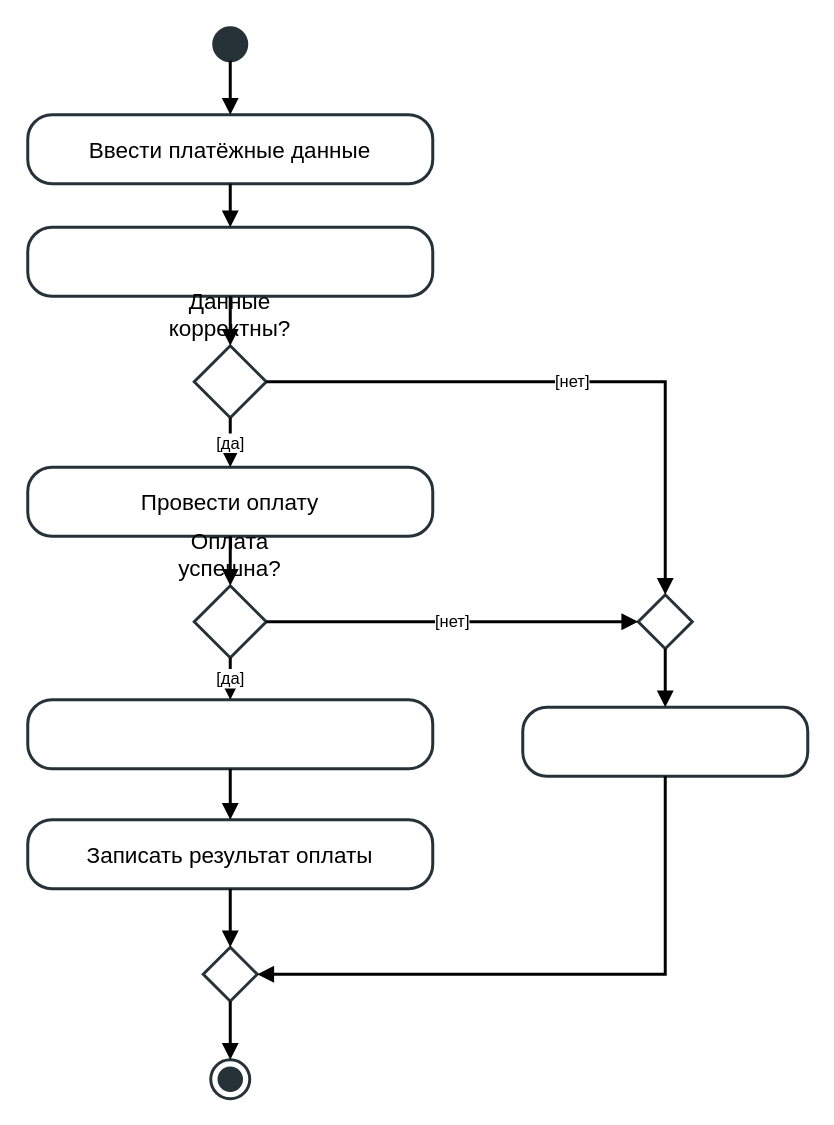
Image size: 834x1125. Some labels were removed from this diagram. The shapes that lost their labels are listed below. From the top down, each one's centre as x and y in pixels, then its label:
(230,261): Проверить данные
(230,734): Показать подтверждение
(664,741): Показать ошибку
